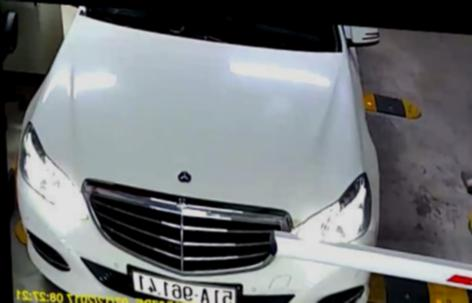License_Plate: (129, 267, 245, 303)
